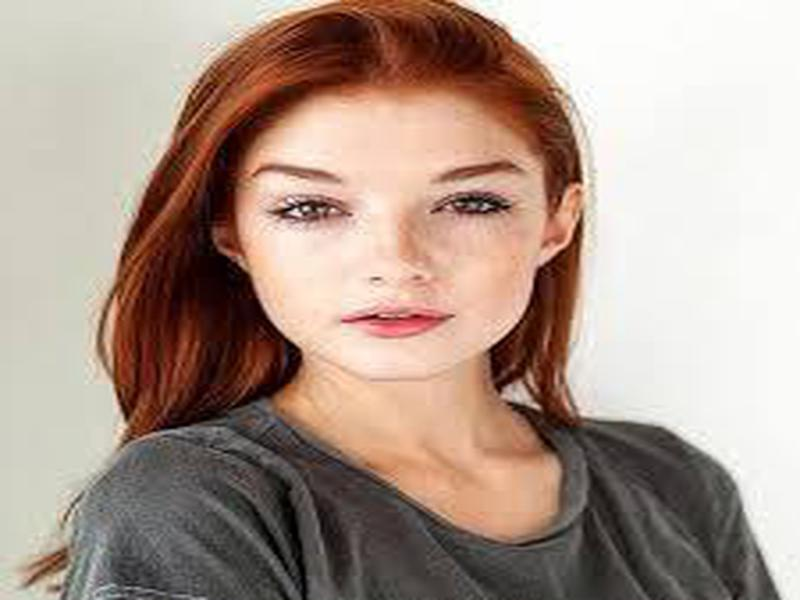without_mask: (240, 89, 546, 385)
